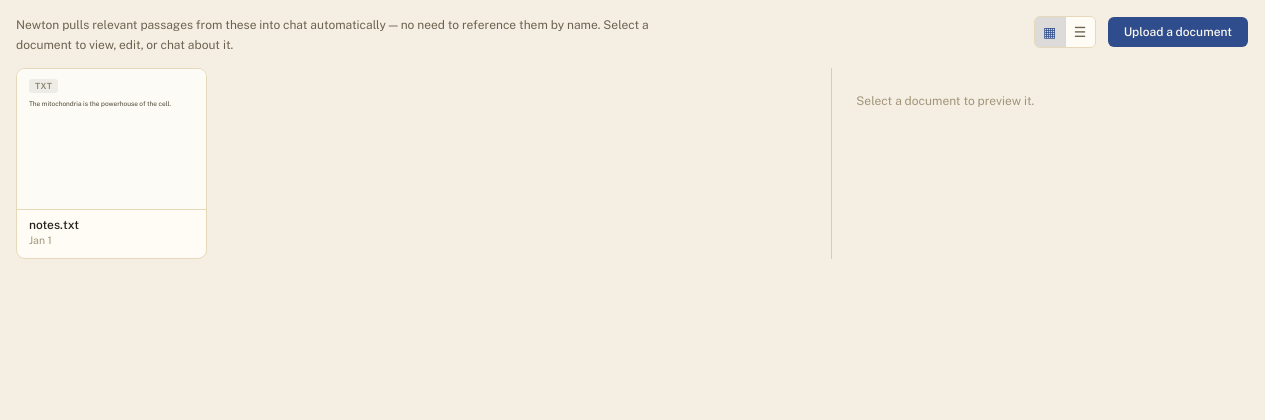
Scenario: DocumentsPanel › highlighting text in a document's preview shows the Explain/Define/Summarize toolbar
Click the button named "List view" at (1080, 32), box [1065,17,1095,47]
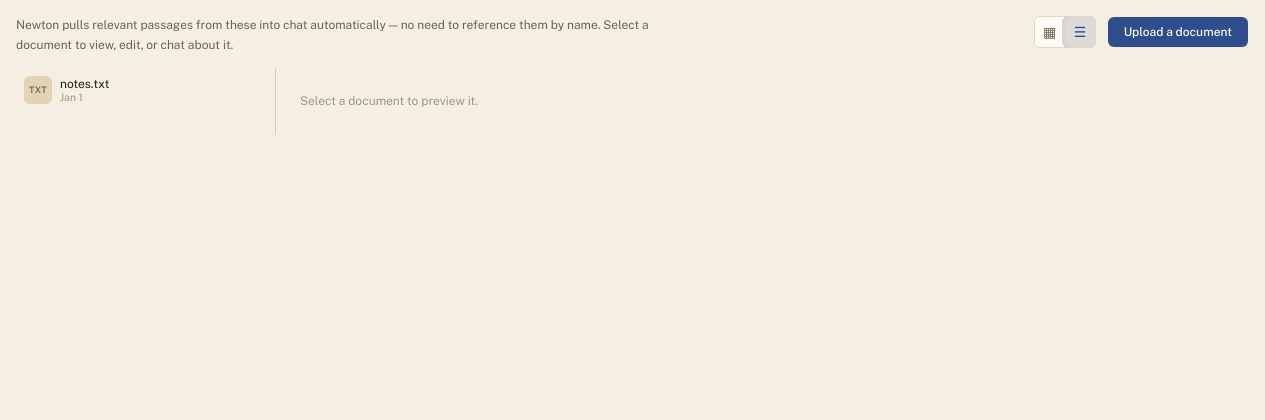
Click the text "notes.txt" at (85, 84), box [60,77,109,91]
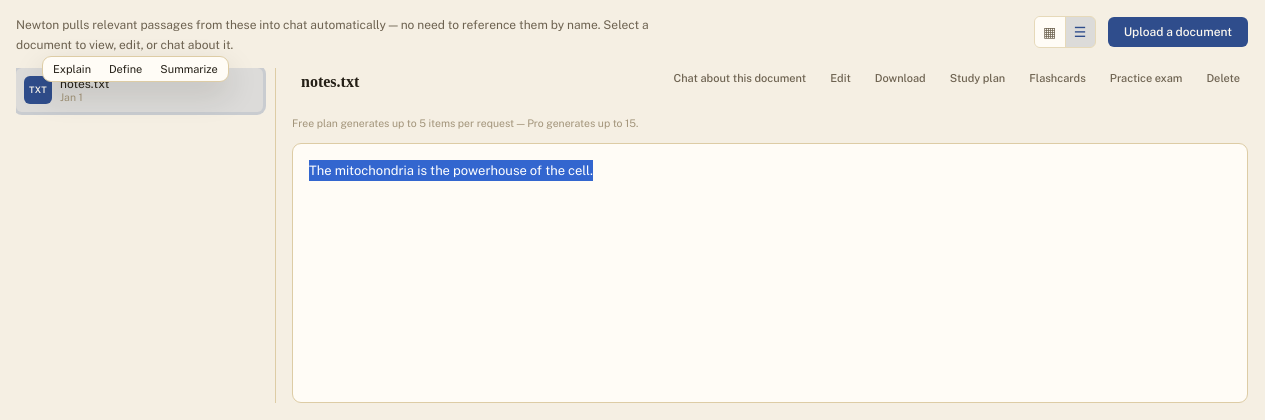
Expected: the button "Explain" is shown, [45,59,99,79]
Expected: the button "Define" is shown, [101,59,150,79]
Expected: the button "Summarize" is shown, [152,59,226,79]
